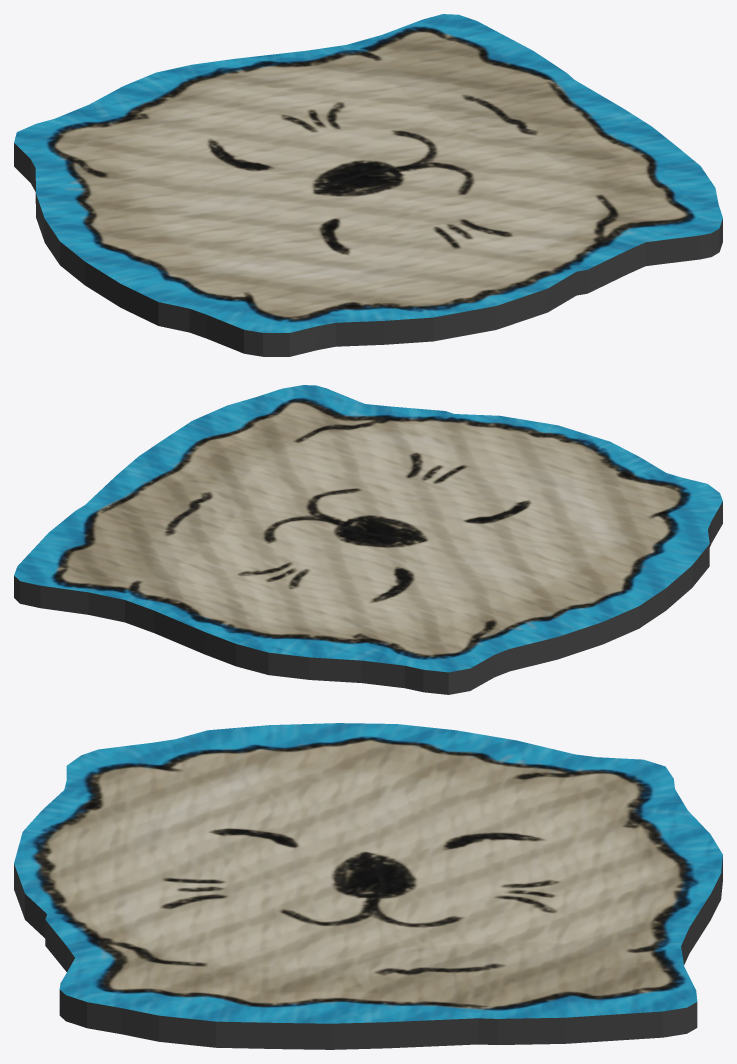
The model's file is Loutre.fbx.
3 renders of one model, top to bottom at view 1: azimuth 30°, elevation 25°; view 2: azimuth 150°, elevation 25°; view 3: azimuth 270°, elevation 25°, orthographic. The views are drawn at different scales.
Parts seen in each view (by area): view 1: Plane.018; view 2: Plane.018; view 3: Plane.018.
Boxes of the visible parts, x1=… form: Plane.018: x1=14, y1=14, x2=722, y2=356; Plane.018: x1=14, y1=385, x2=722, y2=694; Plane.018: x1=14, y1=723, x2=722, y2=1049.
Bounding box in the file's own units: 1312 × 53.25 × 1307.
1 material, 1 textured.
